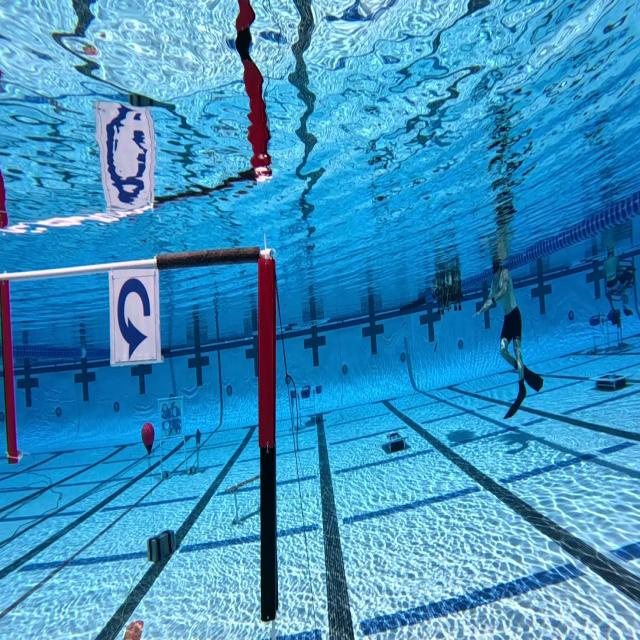blue_side: (106, 253, 162, 364)
